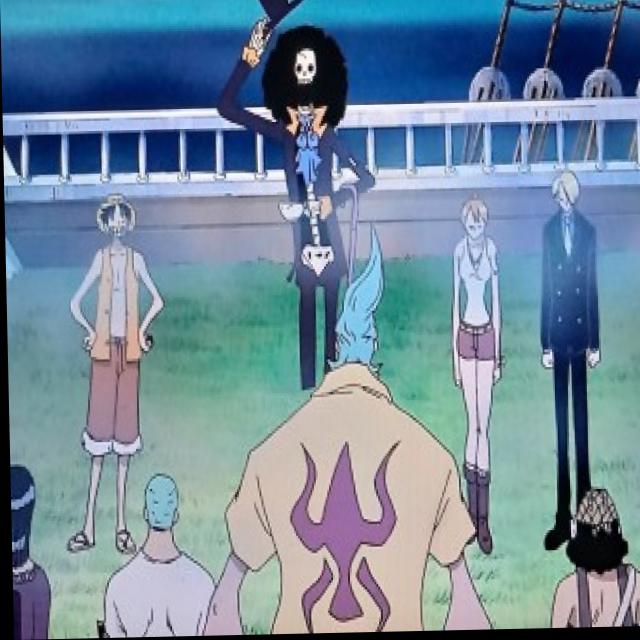Blook: (254, 21, 364, 141)
Franky: (312, 225, 393, 388)
Luffy: (89, 183, 146, 248)
Nami: (449, 192, 497, 248)
NicoRobin: (8, 453, 40, 567)
Sangdi: (549, 174, 586, 218)
Usopp: (562, 486, 637, 582)
Zoro: (133, 465, 196, 544)
